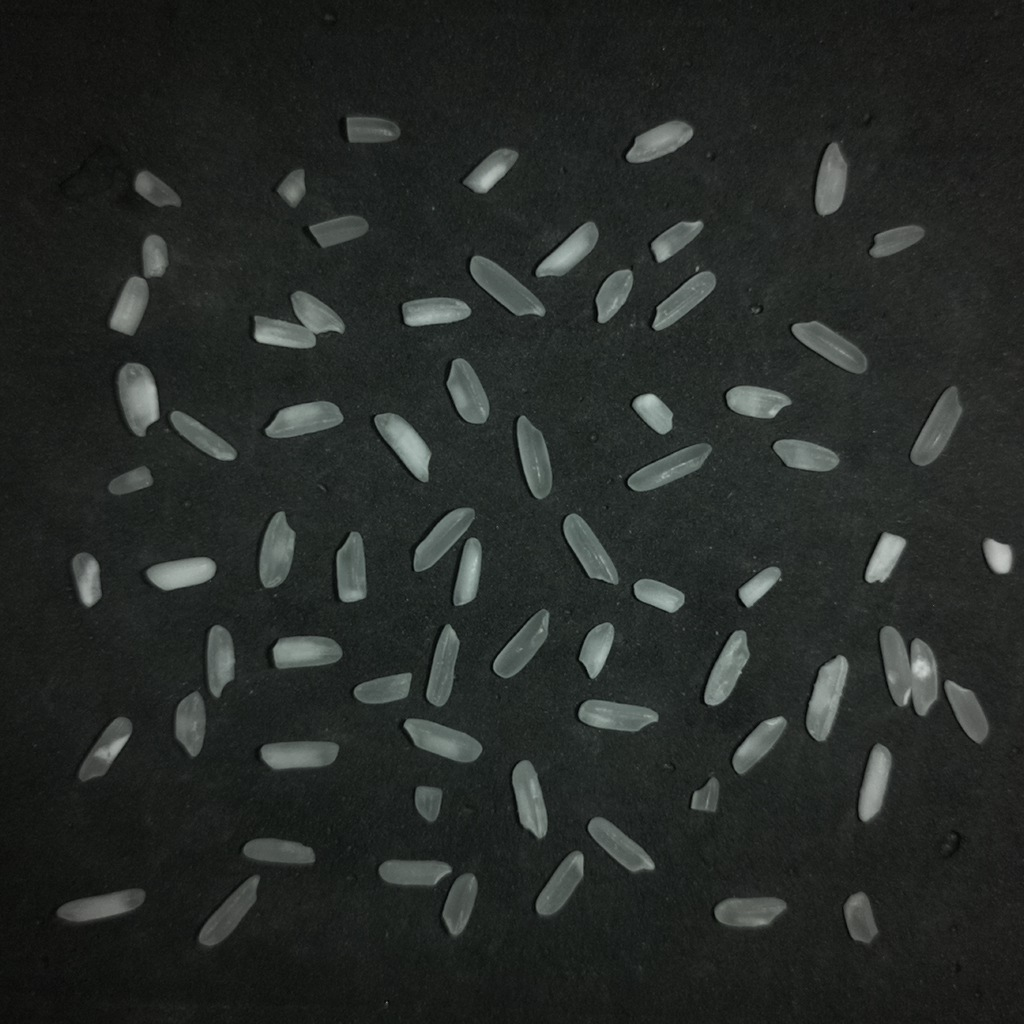broken: (78, 716, 131, 781), (446, 358, 489, 424), (625, 120, 692, 162), (944, 680, 988, 743), (462, 148, 517, 193), (290, 291, 344, 334), (815, 143, 847, 215), (650, 220, 703, 263), (335, 531, 367, 602), (442, 873, 477, 937), (205, 625, 235, 697), (715, 897, 786, 927), (773, 439, 838, 471), (174, 691, 205, 756), (596, 269, 633, 323), (242, 837, 314, 864), (308, 215, 368, 247), (378, 860, 451, 886), (843, 891, 878, 943), (353, 673, 410, 704), (869, 225, 924, 257), (133, 170, 181, 206), (346, 116, 400, 143), (107, 466, 153, 496), (141, 234, 168, 278), (275, 168, 305, 207), (690, 776, 719, 812), (414, 785, 442, 822)
chalky: (374, 413, 430, 482), (535, 222, 598, 276), (117, 363, 159, 436), (858, 744, 891, 822), (145, 556, 215, 590), (108, 276, 148, 335), (260, 740, 338, 770), (272, 635, 341, 668), (725, 385, 791, 418), (864, 532, 906, 582), (253, 315, 315, 348), (578, 622, 614, 678), (401, 297, 470, 326), (452, 537, 481, 606), (634, 578, 684, 613), (738, 566, 780, 607), (631, 393, 672, 434), (71, 552, 101, 607), (983, 538, 1012, 574)
whole: (469, 255, 545, 315), (199, 874, 259, 946), (627, 443, 711, 491), (910, 386, 961, 465), (791, 321, 867, 373), (563, 513, 618, 584), (413, 507, 474, 571), (492, 609, 548, 678), (652, 271, 716, 330), (805, 655, 848, 741), (587, 817, 653, 872), (403, 718, 482, 762), (703, 630, 749, 705), (170, 410, 236, 460), (732, 716, 786, 774), (56, 888, 144, 923), (535, 851, 583, 914), (258, 511, 296, 589), (264, 401, 342, 438), (516, 416, 551, 498), (511, 760, 547, 838), (425, 624, 459, 706), (879, 626, 912, 706), (577, 699, 658, 731), (910, 638, 938, 716)
